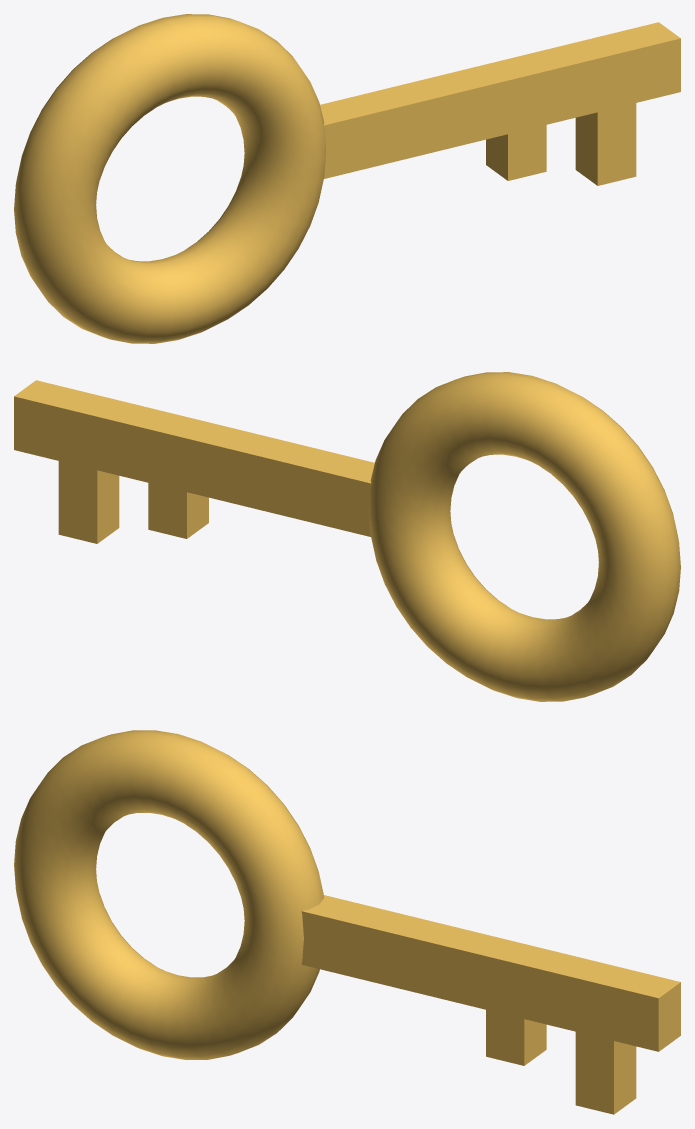
File: susi.glb
3 renders of one model, top to bottom at view 1: azimuth 30°, elevation 25°; view 2: azimuth 150°, elevation 25°; view 3: azimuth 330°, elevation 25°, orthographic.
Size of the model in its own units: 2.54 by 1.18 by 0.28.
